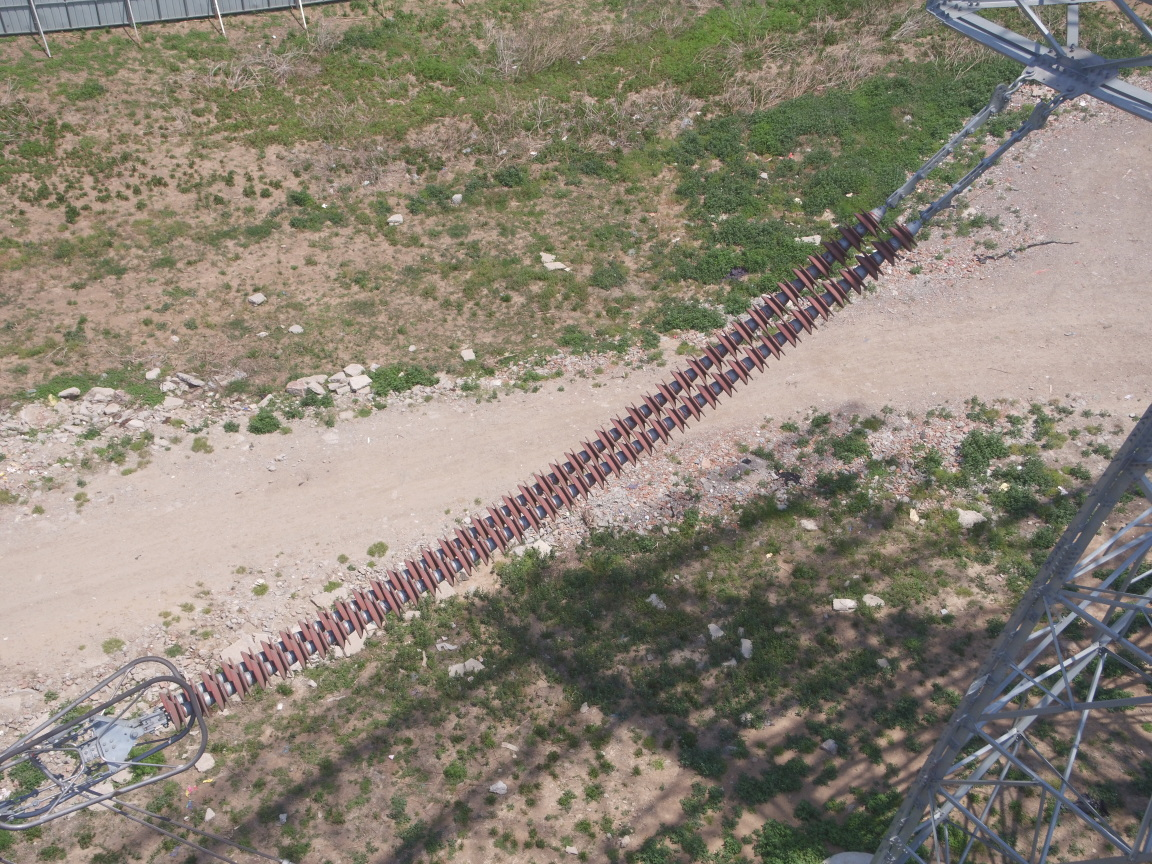insulator: (115, 169, 959, 753)
